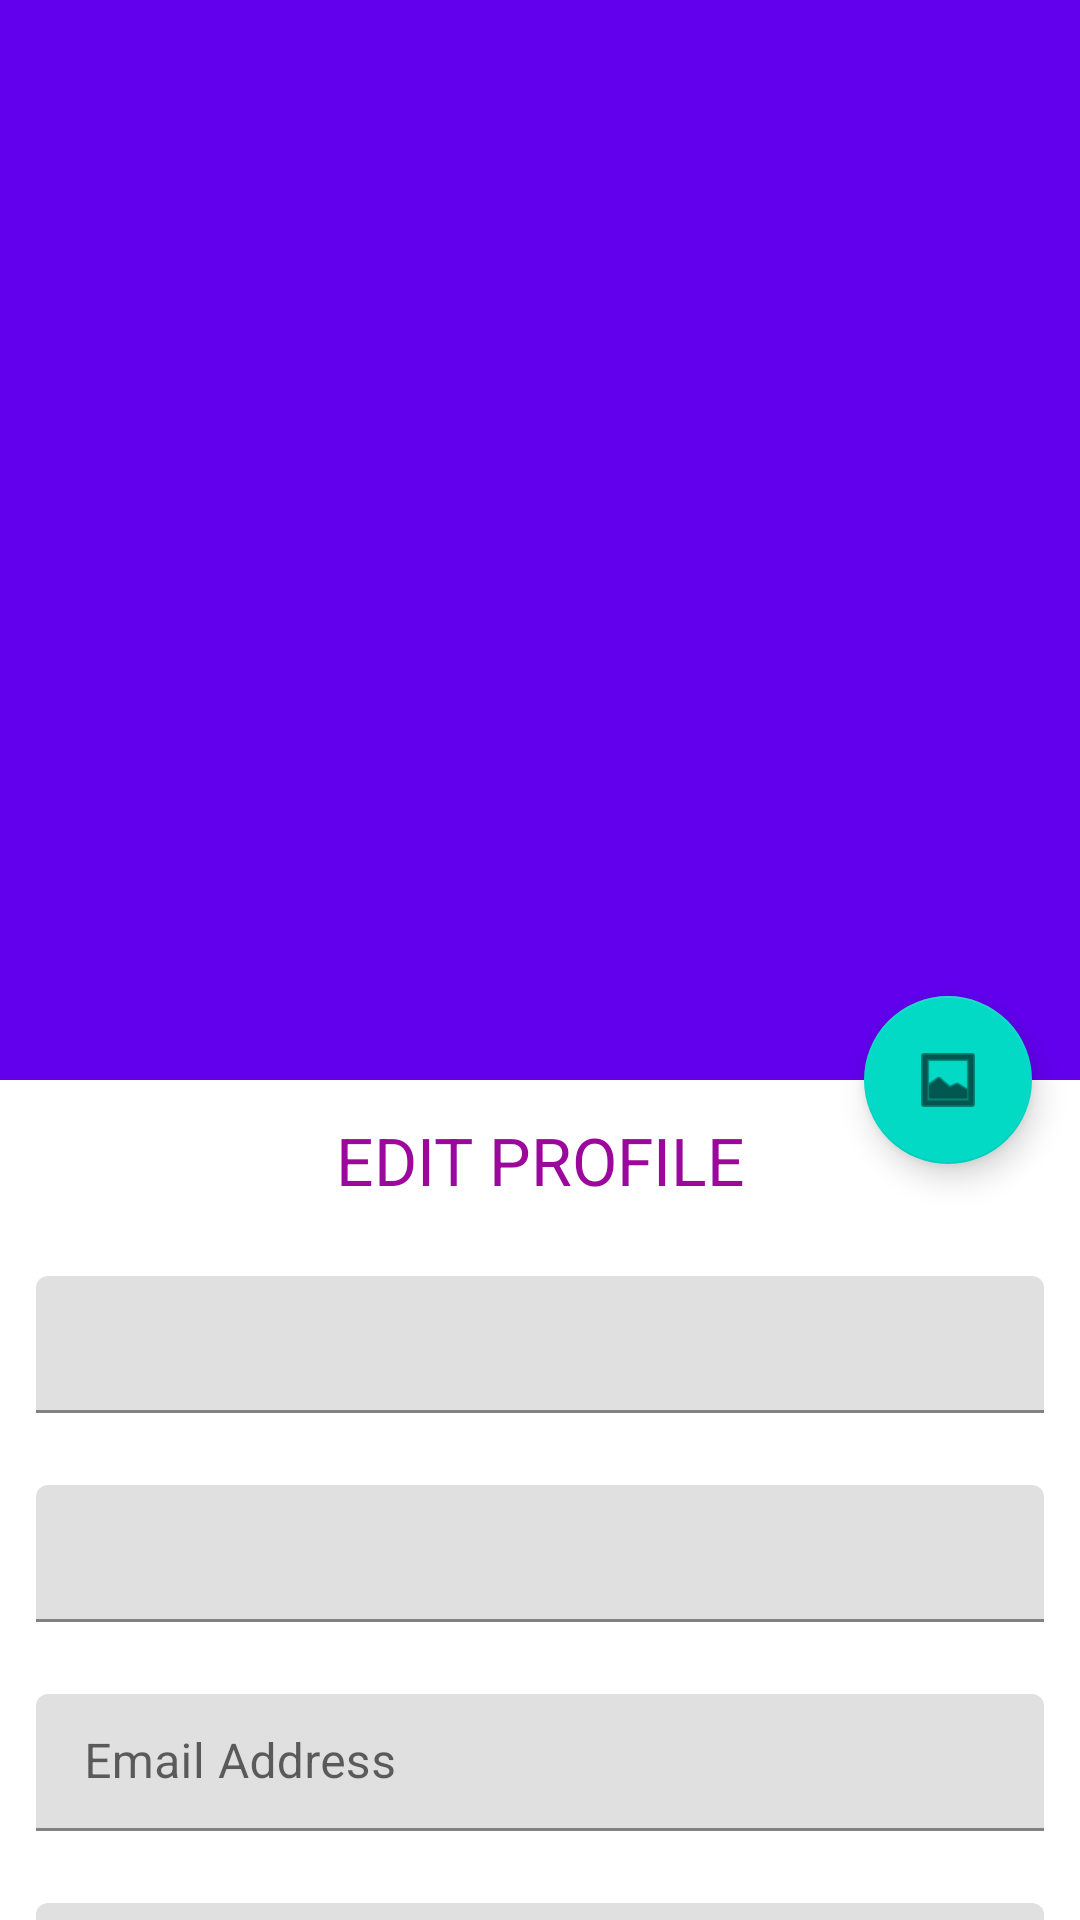

Point at icon controls on the screen. Image size 1080w x 1920h, points as (x,y).
gallery: (948,1080)
